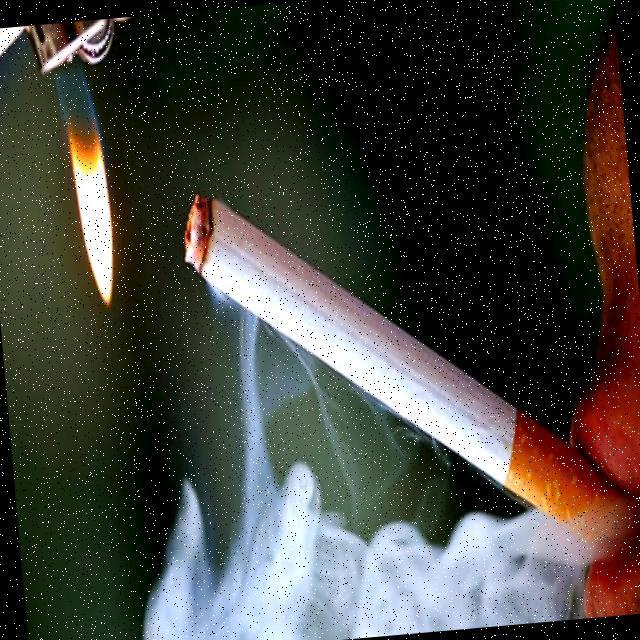cigarette: (180, 149, 598, 595)
